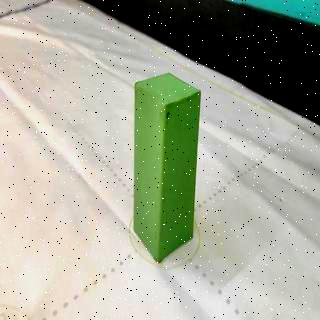greenbox: (134, 70, 203, 263)
